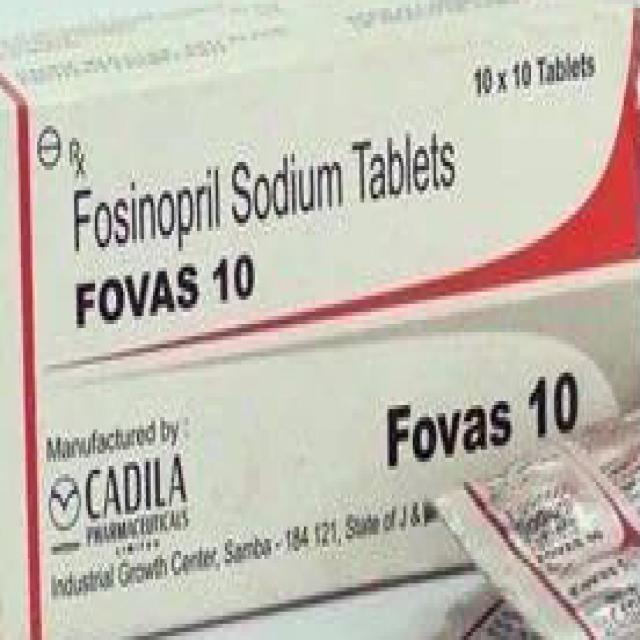drug-name: (76, 252, 257, 332)
